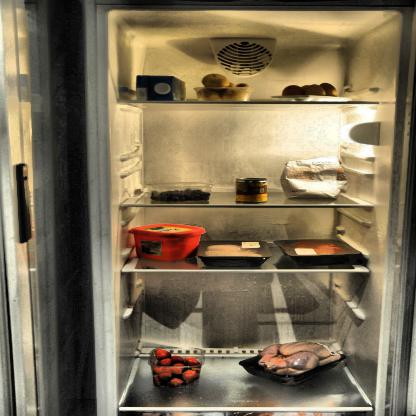beef: (284, 238, 356, 266)
blueberries: (149, 187, 212, 203)
butter: (130, 222, 204, 262)
chicken: (252, 338, 340, 384), (198, 242, 271, 269)
corn: (234, 177, 270, 203)
eggs: (278, 82, 341, 102)
milk: (134, 74, 188, 103)
potato: (195, 73, 252, 101)
strawberries: (150, 346, 201, 389)
